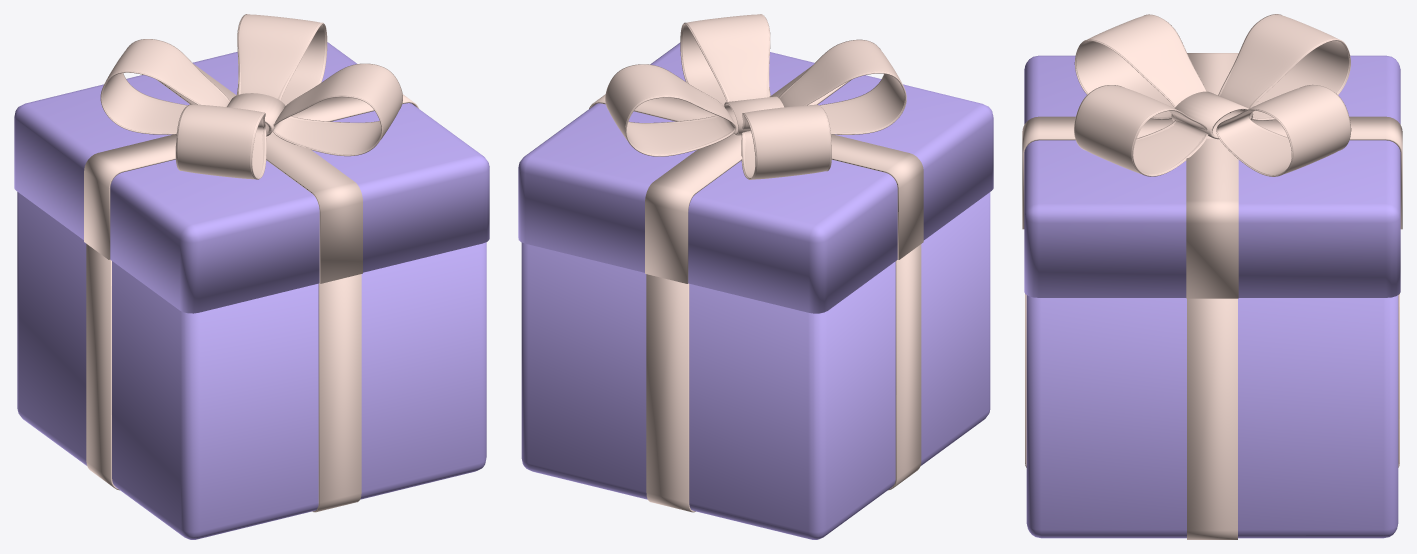
File: PRESENT.glb
The picture shows the model from 3 angles, left to right: view 1: azimuth 30°, elevation 25°; view 2: azimuth 150°, elevation 25°; view 3: azimuth 270°, elevation 25°; orthographic projection. The views are drawn at different scales.
Parts seen in each view (by area): view 1: Cube, Cube.001, Plane.005, Plane.004, Plane.003, Plane.002, Plane, Plane.001, Circle; view 2: Cube, Cube.001, Plane.004, Plane.005, Plane.003, Plane.002, Plane, Plane.001, Circle; view 3: Cube, Cube.001, Plane.005, Plane.004, Plane, Plane.001, Plane.002, Circle, Plane.003.
Boxes of the visible parts, x1=… form: Cube: x1=17, y1=192, x2=486, y2=539; Cube.001: x1=14, y1=42, x2=489, y2=313; Plane.005: x1=100, y1=39, x2=402, y2=156; Plane.004: x1=175, y1=14, x2=327, y2=179; Plane.003: x1=312, y1=274, x2=361, y2=512; Plane.002: x1=142, y1=64, x2=362, y2=283; Plane: x1=86, y1=244, x2=119, y2=490; Plane.001: x1=84, y1=94, x2=418, y2=259; Circle: x1=227, y1=93, x2=285, y2=136; Cube: x1=521, y1=192, x2=990, y2=539; Cube.001: x1=518, y1=42, x2=993, y2=313; Plane.004: x1=605, y1=39, x2=906, y2=156; Plane.005: x1=680, y1=14, x2=831, y2=179; Plane.003: x1=646, y1=274, x2=695, y2=512; Plane.002: x1=645, y1=65, x2=850, y2=283; Plane: x1=888, y1=244, x2=921, y2=490; Plane.001: x1=589, y1=94, x2=923, y2=259; Circle: x1=724, y1=96, x2=783, y2=135; Cube: x1=1026, y1=295, x2=1398, y2=538; Cube.001: x1=1024, y1=55, x2=1400, y2=297; Plane.005: x1=1074, y1=14, x2=1350, y2=176; Plane.004: x1=1074, y1=14, x2=1351, y2=176; Plane: x1=1187, y1=298, x2=1237, y2=539; Plane.001: x1=1186, y1=53, x2=1238, y2=298; Plane.002: x1=1022, y1=116, x2=1402, y2=229; Circle: x1=1171, y1=91, x2=1253, y2=139; Plane.003: x1=1025, y1=294, x2=1399, y2=467.
Size of the model in its own units: 2.05 by 2.39 by 2.05.
